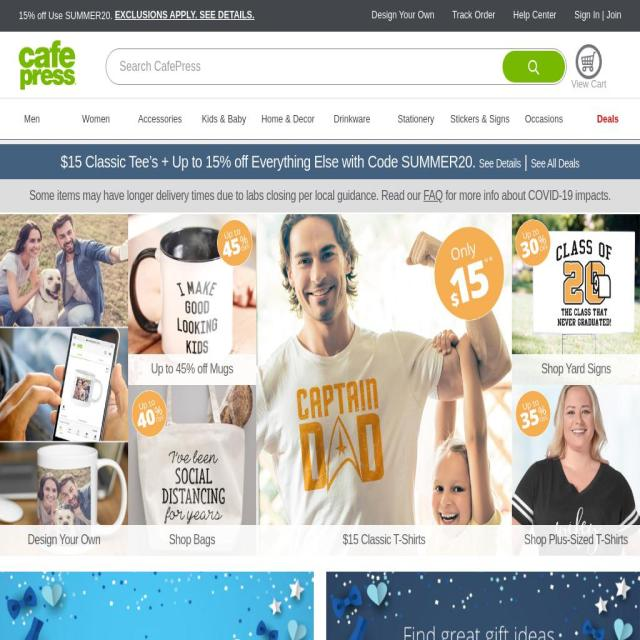button: (255, 214, 512, 556), (0, 214, 128, 556), (128, 384, 256, 556), (512, 384, 640, 556), (128, 214, 256, 385), (512, 214, 640, 385), (0, 571, 314, 640), (326, 571, 640, 640), (19, 40, 76, 92), (575, 99, 640, 139), (0, 99, 64, 139), (64, 99, 128, 139), (128, 99, 192, 139), (192, 99, 256, 139), (256, 99, 320, 139), (320, 99, 384, 139), (384, 99, 448, 139), (448, 99, 512, 139), (512, 99, 576, 139), (571, 42, 607, 90)
field: (119, 48, 510, 85)
image: (255, 214, 512, 556), (0, 214, 128, 556), (128, 384, 256, 556), (512, 384, 640, 556), (128, 214, 256, 385), (512, 214, 640, 385), (0, 571, 314, 640), (326, 571, 640, 640), (19, 40, 76, 90)
link: (114, 8, 254, 21), (18, 9, 112, 22), (372, 8, 434, 21), (531, 157, 580, 170), (574, 8, 622, 21), (513, 8, 557, 21), (452, 8, 495, 21), (479, 157, 521, 170), (423, 188, 444, 202)
text: (255, 524, 512, 556), (61, 152, 480, 170), (29, 188, 423, 202), (0, 524, 128, 556), (128, 524, 256, 556), (512, 524, 640, 556), (128, 354, 256, 385), (512, 354, 640, 385), (442, 188, 610, 202), (502, 51, 565, 82), (571, 78, 607, 90), (521, 152, 531, 170)
